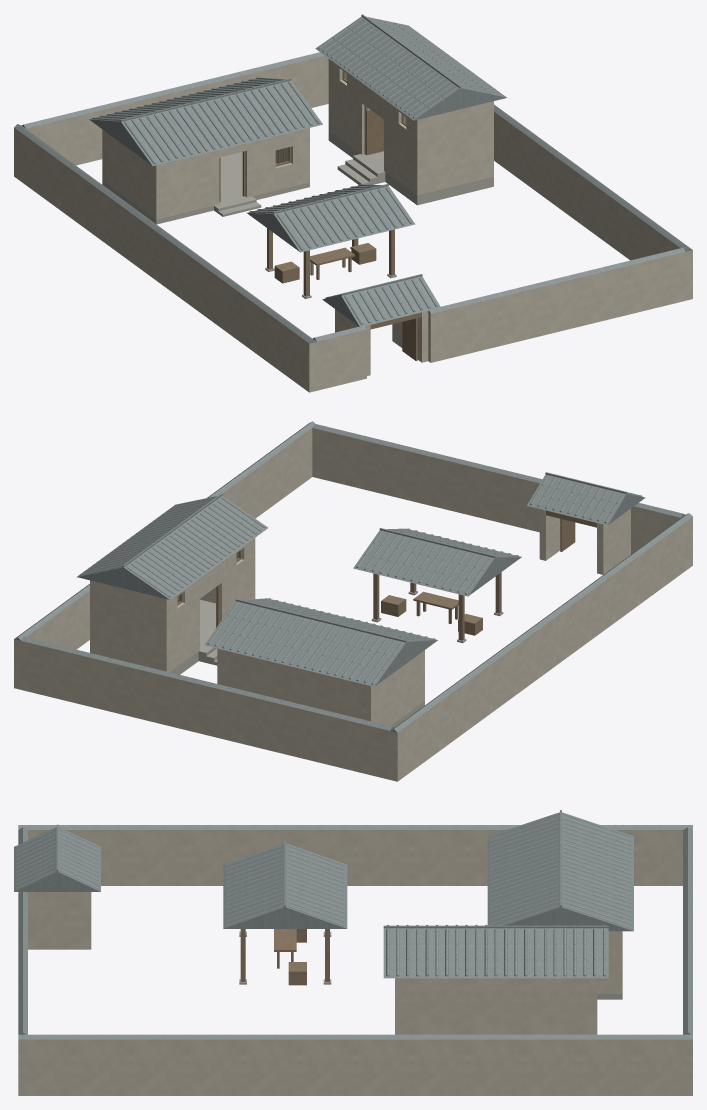
The model's file is baseline.glb.
The picture shows the model from 3 angles, top to bottom: view 1: azimuth 30°, elevation 25°; view 2: azimuth 150°, elevation 25°; view 3: azimuth 270°, elevation 25°; orthographic projection. The views are drawn at different scales.
Visible parts, largest first — view 1: architecture_C_whitebox_earth_wall.001, architecture_C_roof_rhythm_not_glaze_copy.001, architecture_C_floor_plinth.001, architecture_C_plain_timber.001; view 2: architecture_C_whitebox_earth_wall.001, architecture_C_roof_rhythm_not_glaze_copy.001, architecture_C_plain_timber.001, architecture_C_floor_plinth.001; view 3: architecture_C_whitebox_earth_wall.001, architecture_C_roof_rhythm_not_glaze_copy.001, architecture_C_plain_timber.001.
Boxes of the visible parts, x1,y1,x2,y2 form: architecture_C_whitebox_earth_wall.001: (14, 56, 692, 392); architecture_C_roof_rhythm_not_glaze_copy.001: (14, 14, 692, 343); architecture_C_floor_plinth.001: (102, 117, 493, 298); architecture_C_plain_timber.001: (219, 71, 421, 360); architecture_C_whitebox_earth_wall.001: (14, 428, 692, 781); architecture_C_roof_rhythm_not_glaze_copy.001: (14, 421, 692, 732); architecture_C_plain_timber.001: (177, 510, 596, 640); architecture_C_floor_plinth.001: (170, 591, 503, 727); architecture_C_whitebox_earth_wall.001: (18, 830, 692, 1095); architecture_C_roof_rhythm_not_glaze_copy.001: (14, 810, 692, 1039); architecture_C_plain_timber.001: (240, 929, 329, 985).
Bounding box in the file's own units: 18 × 5.07 × 24.15.
Materials: 4 (3 with a texture image).
